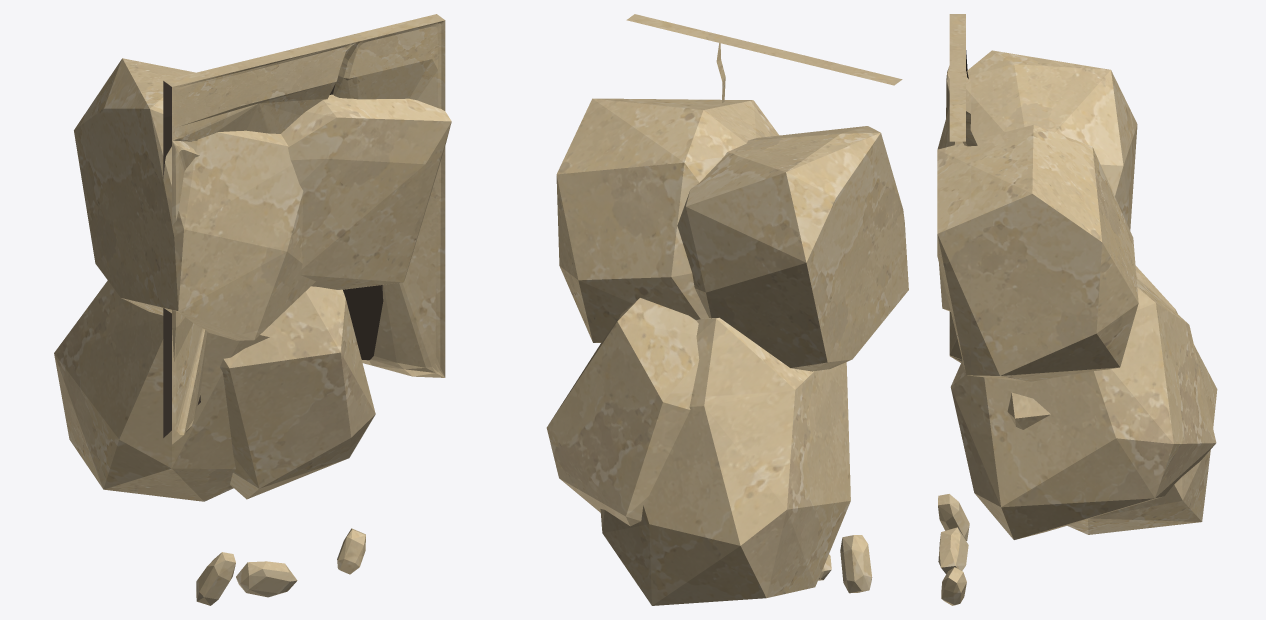
File: ground_bottom_edge_06.glb
3 views of the same model, side by side, from view 1: azimuth 30°, elevation 25°; view 2: azimuth 150°, elevation 25°; view 3: azimuth 270°, elevation 25° (orthographic). The views are drawn at different scales.
Visible parts, largest first — view 1: GroundBottomEdge06_Body; view 2: GroundBottomEdge06_Body; view 3: GroundBottomEdge06_Body.
Boxes of the visible parts, left/top/right/bottom form: GroundBottomEdge06_Body: left=54, top=14, right=451, bottom=605; GroundBottomEdge06_Body: left=546, top=14, right=908, bottom=605; GroundBottomEdge06_Body: left=937, top=14, right=1217, bottom=605.
Bounding box in the file's own units: 1 × 1.87 × 1.04.
5 materials, 4 textured.
